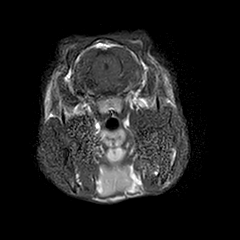Brain: (58, 19, 157, 117)
